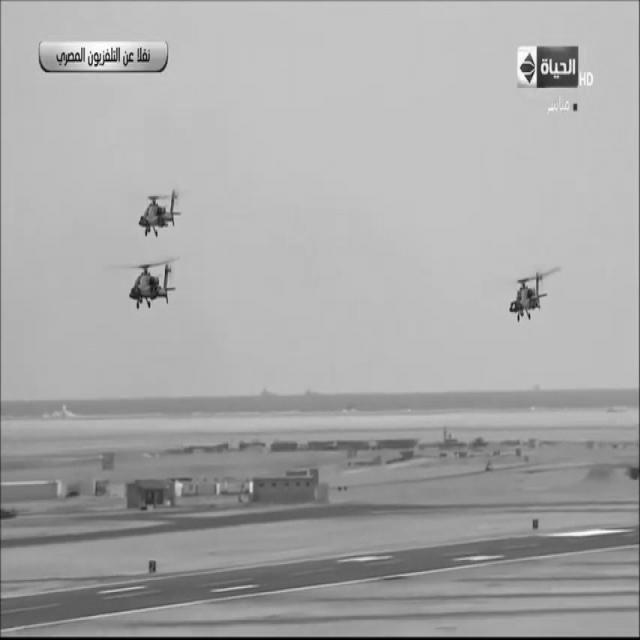helikopter: (502, 264, 562, 327), (125, 253, 184, 310), (133, 184, 187, 243)
